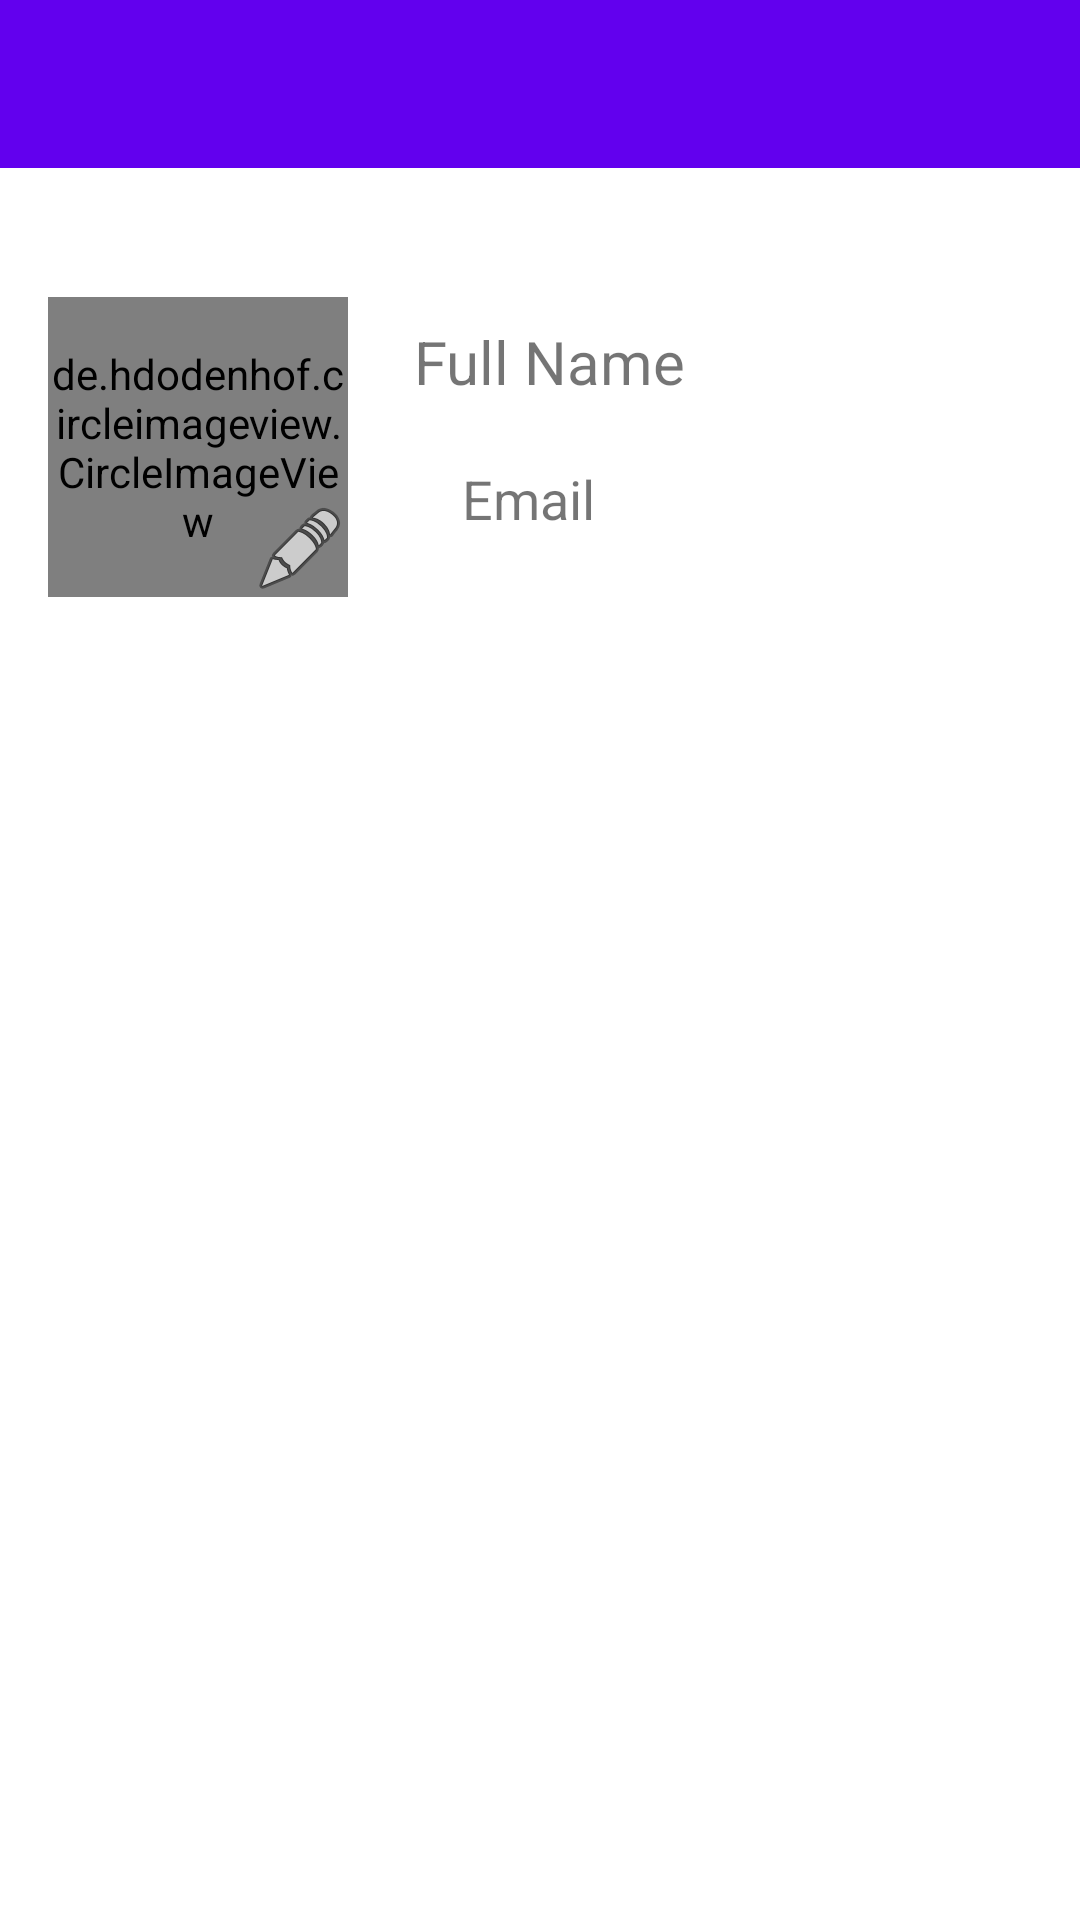

Named icons in this screenshot (1080px×1920px) and their centers, (x=x, y=y):
edit: (x=299, y=548)
